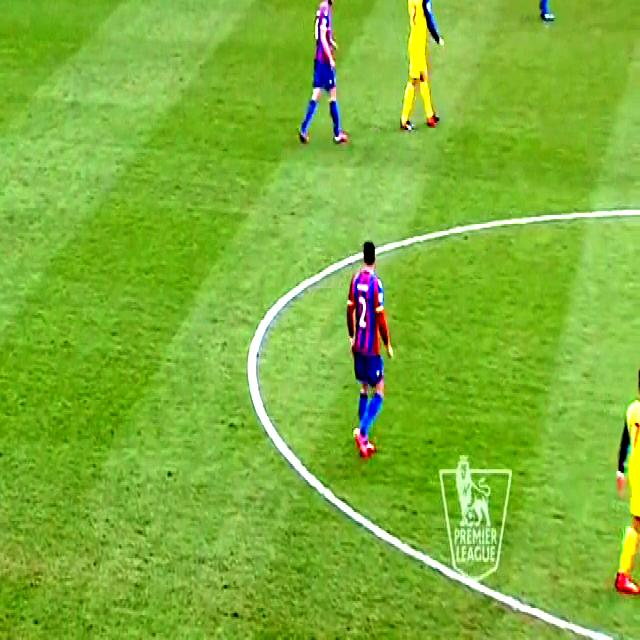soccer-player: (334, 233, 402, 462), (288, 0, 359, 155), (601, 362, 640, 604), (394, 0, 460, 139), (522, 0, 579, 28)
